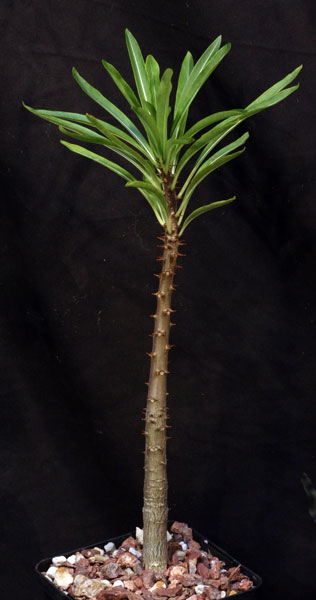Pachypodium meridionale: (68, 49, 247, 577)
